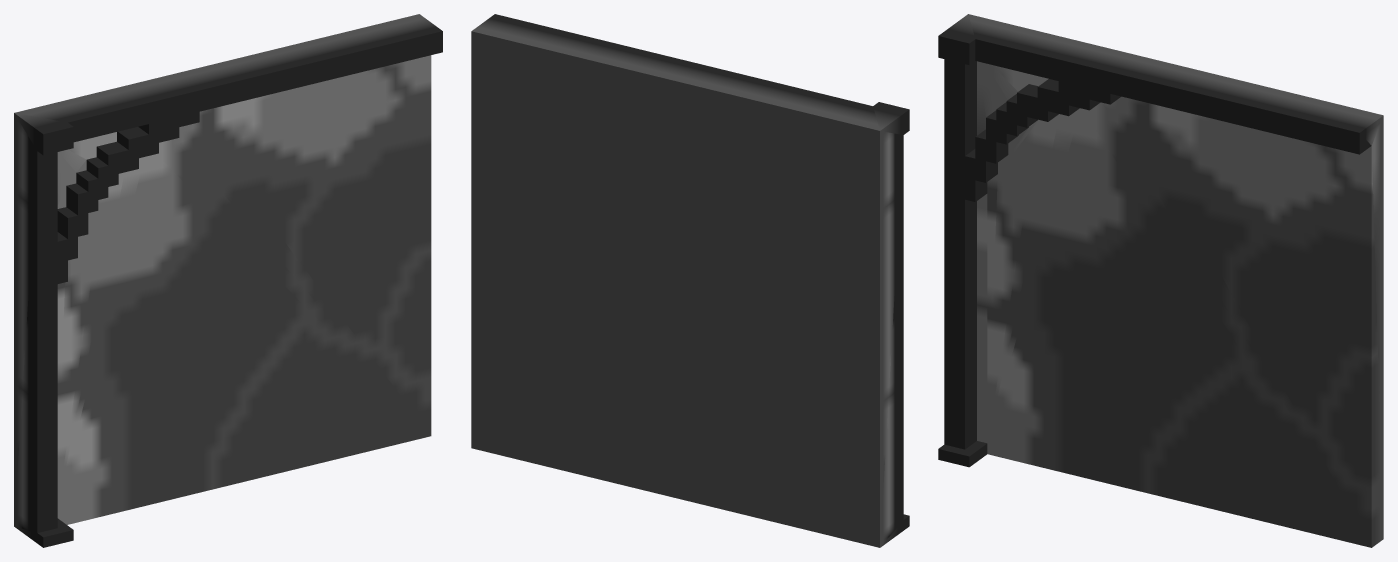
The model's file is WallNether_ER.fbx.
The picture shows the model from 3 angles, left to right: view 1: azimuth 30°, elevation 25°; view 2: azimuth 150°, elevation 25°; view 3: azimuth 330°, elevation 25°; orthographic projection. The views are drawn at different scales.
Visible parts, largest first — view 1: WallNether_ER.Merged; view 2: WallNether_ER.Merged; view 3: WallNether_ER.Merged.
Boxes of the visible parts, x1,y1,x2,y2 form: WallNether_ER.Merged: [14, 14, 442, 547]; WallNether_ER.Merged: [471, 14, 909, 547]; WallNether_ER.Merged: [938, 14, 1383, 547].
Bounding box in the file's own units: 8000 × 7800 × 1000.
